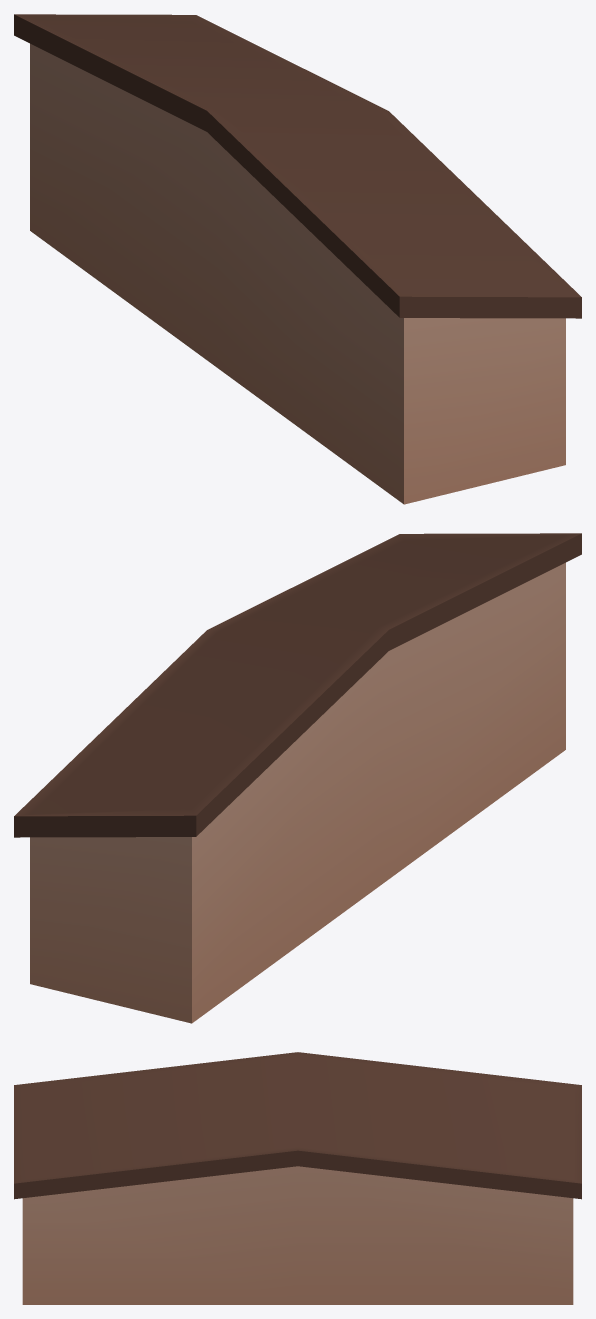
The model's file is WE01_Kinship_FarHouse3.fbx.
3 views of the same model, one above another, from view 1: azimuth 30°, elevation 25°; view 2: azimuth 150°, elevation 25°; view 3: azimuth 270°, elevation 25° (orthographic). The views are drawn at different scales.
Visible parts, largest first — view 1: VagueHouse2; view 2: VagueHouse2; view 3: VagueHouse2.
Boxes of the visible parts, <box> form: VagueHouse2: <box>14,14,581,504</box>; VagueHouse2: <box>14,533,581,1023</box>; VagueHouse2: <box>14,1052,581,1304</box>.
Size of the model in its own units: 1.12 by 1.53 by 4.12.
